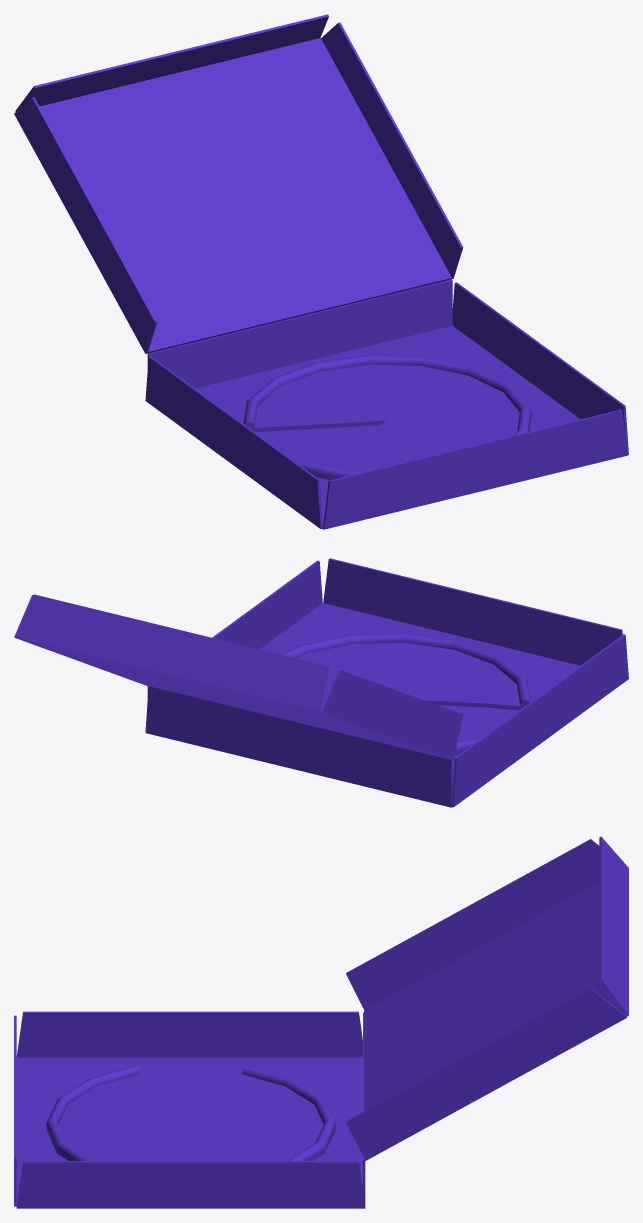
File: Pizza.fbx
3 views of the same model, one above another, from view 1: azimuth 30°, elevation 25°; view 2: azimuth 150°, elevation 25°; view 3: azimuth 270°, elevation 25° (orthographic).
Parts seen in each view (by area): view 1: SM_PizzaBox.002, SM_Pizza; view 2: SM_PizzaBox.002, SM_Pizza; view 3: SM_PizzaBox.002, SM_Pizza.
Part boxes in pixels (box(x1,y1,x2,y2)): SM_PizzaBox.002: box(14, 14, 628, 529); SM_Pizza: box(243, 355, 531, 480); SM_PizzaBox.002: box(14, 558, 628, 807); SM_Pizza: box(281, 633, 530, 755); SM_PizzaBox.002: box(14, 836, 628, 1208); SM_Pizza: box(46, 1065, 335, 1160).
Bounding box in the file's own units: 41.55 × 29.27 × 72.19.
